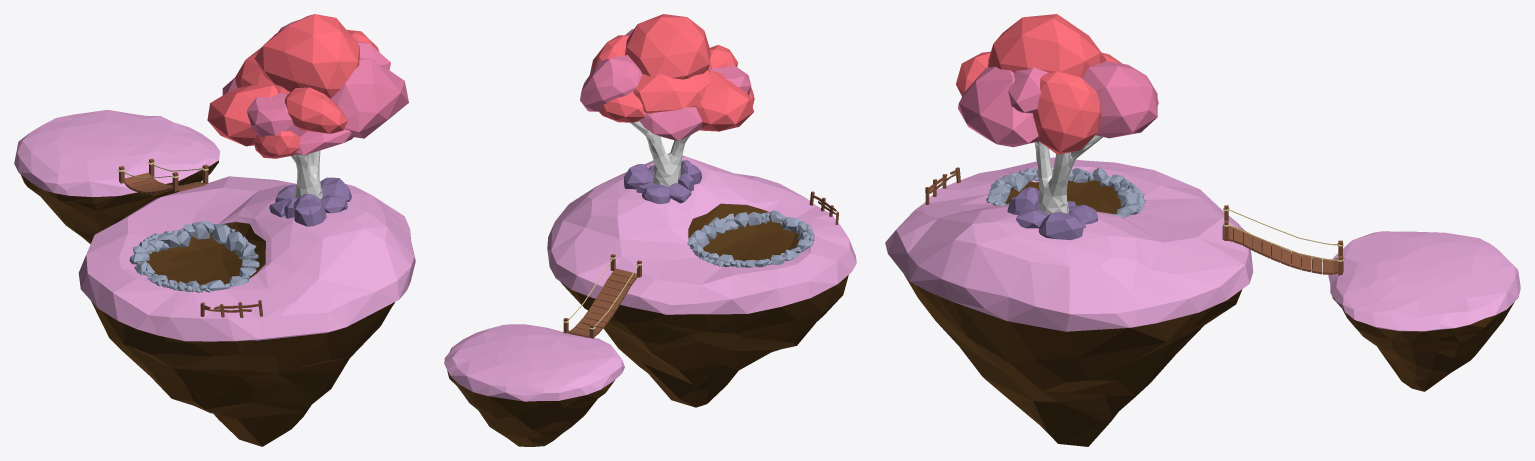
File: MainIslandV3.3.fbx
The picture shows the model from 3 angles, left to right: view 1: azimuth 30°, elevation 25°; view 2: azimuth 150°, elevation 25°; view 3: azimuth 270°, elevation 25°; orthographic projection. The views are drawn at different scales.
Visible parts, largest first — view 1: MainIsland, CherryTreee, MainIsland2, wheel stone, TreeStone, Bridge, fence; view 2: MainIsland, CherryTreee, MainIsland2, wheel stone, Bridge, TreeStone; view 3: MainIsland, CherryTreee, MainIsland2, TreeStone, wheel stone, Bridge.
Part boxes in pixels (<box>): MainIsland: <box>78,176,415,446</box>; CherryTreee: <box>207,14,408,199</box>; MainIsland2: <box>14,110,219,243</box>; wheel stone: <box>129,220,259,292</box>; TreeStone: <box>269,177,351,226</box>; Bridge: <box>118,158,208,193</box>; fence: <box>200,300,262,317</box>; MainIsland: <box>547,156,856,407</box>; CherryTreee: <box>580,14,754,186</box>; MainIsland2: <box>444,324,624,446</box>; wheel stone: <box>687,210,814,267</box>; Bridge: <box>563,254,642,338</box>; TreeStone: <box>624,160,701,203</box>; MainIsland: <box>885,157,1253,446</box>; CherryTreee: <box>956,14,1158,214</box>; MainIsland2: <box>1328,231,1520,391</box>; TreeStone: <box>1007,187,1097,240</box>; wheel stone: <box>986,167,1145,217</box>; Bridge: <box>1222,205,1343,275</box>.
Bounding box in the file's own units: 262 × 346 × 444.
